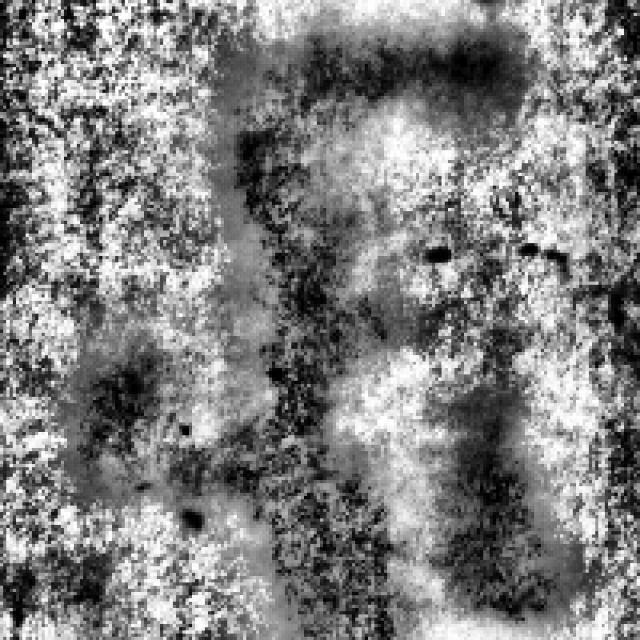Scratches: (218, 19, 516, 637), (413, 381, 579, 637), (61, 326, 230, 512)
